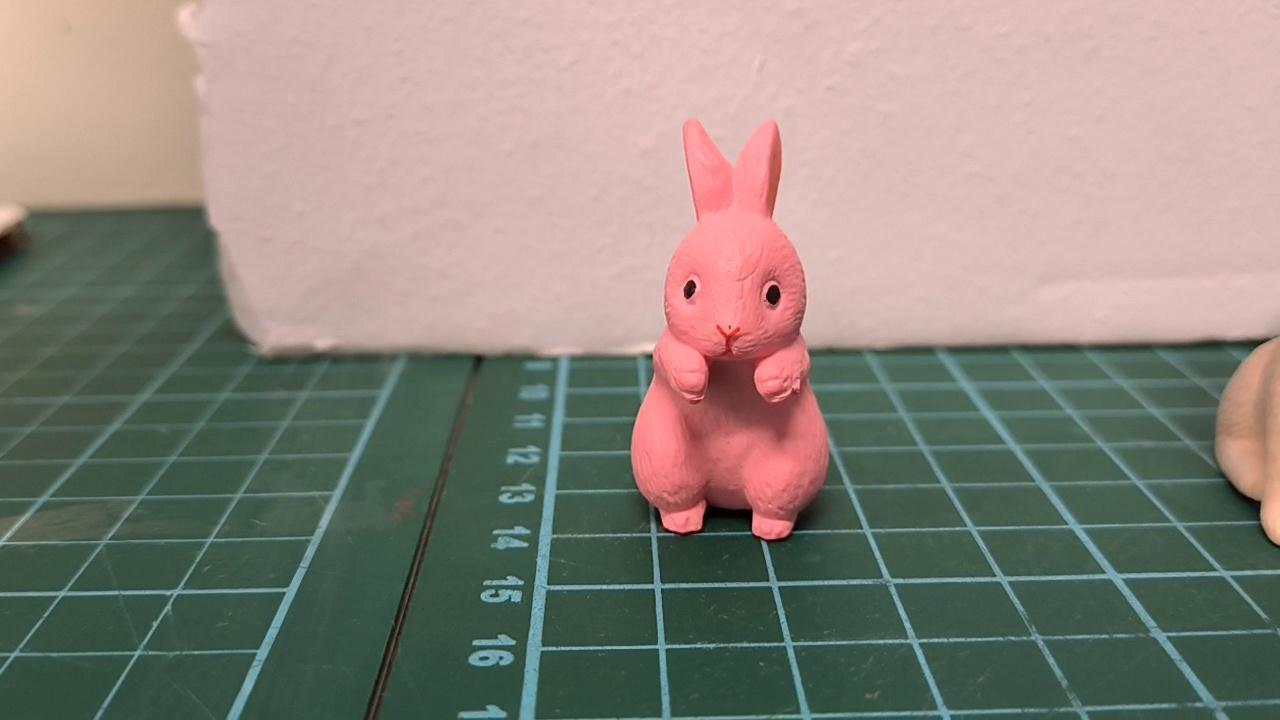pet: (633, 116, 829, 540)
